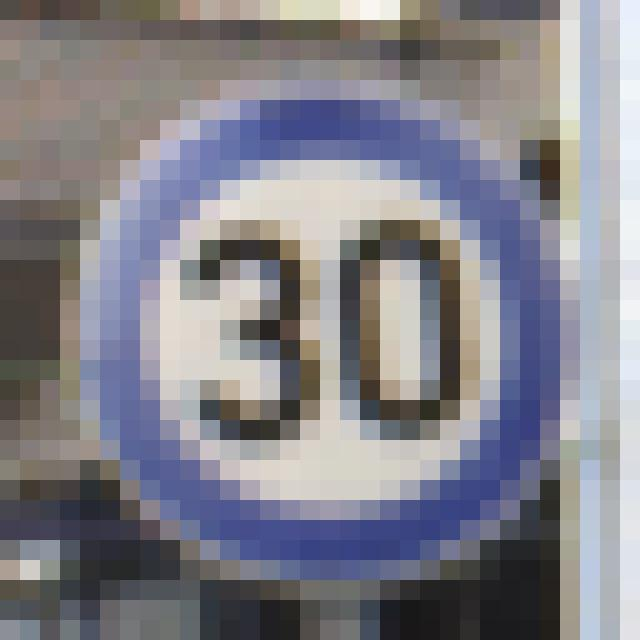SPEED LIMIT 30: (70, 86, 556, 582)
